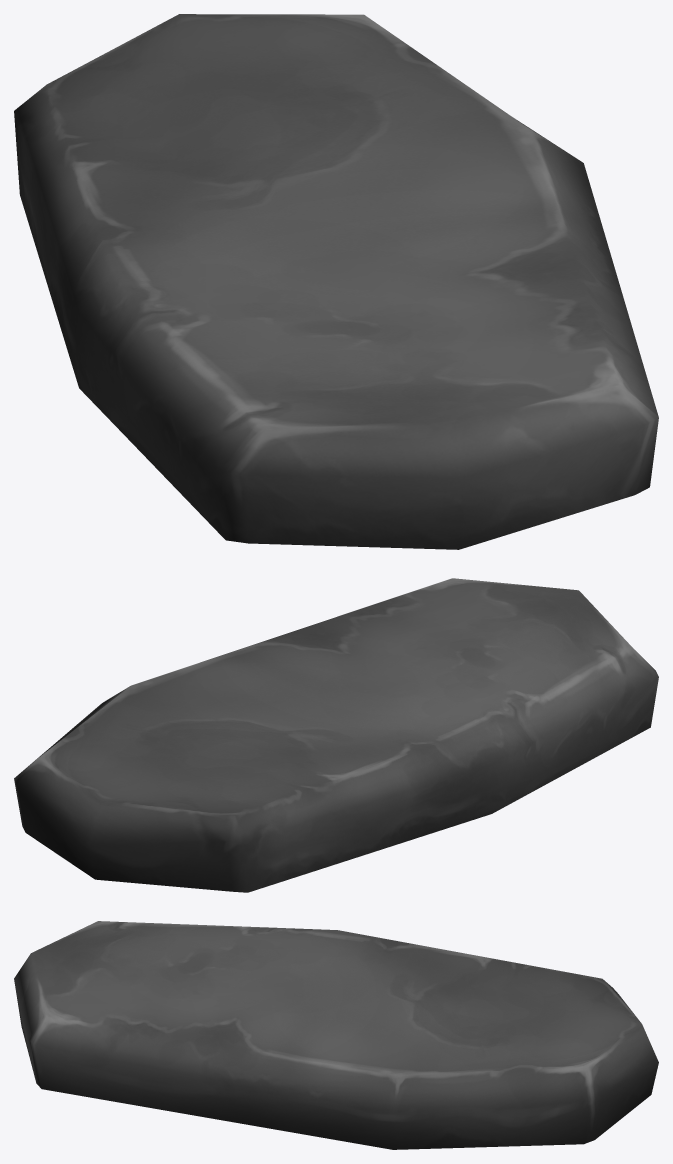
Rendered from M_Slab5.fbx.
3 views of the same model, one above another, from view 1: azimuth 30°, elevation 25°; view 2: azimuth 150°, elevation 25°; view 3: azimuth 270°, elevation 25° (orthographic). The views are drawn at different scales.
Parts seen in each view (by area): view 1: M_Slab5; view 2: M_Slab5; view 3: M_Slab5.
Part boxes in pixels (x1=…): M_Slab5: x1=14, y1=14, x2=658, y2=549; M_Slab5: x1=14, y1=578, x2=658, y2=892; M_Slab5: x1=14, y1=921, x2=658, y2=1149.
Bounding box in the file's own units: 1.54 × 0.2964 × 2.33.
